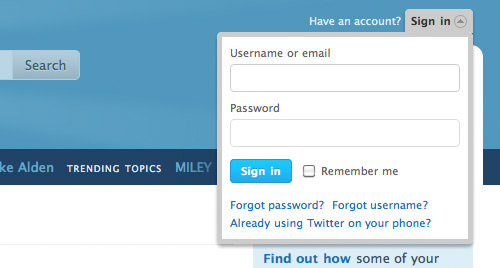_form_: (211, 28, 477, 198)
button: (229, 158, 293, 184)
checkbox: (303, 164, 317, 178)
checkbox_with_label: (301, 162, 398, 179)
field: (229, 117, 461, 148), (230, 62, 461, 93)
field_with_label: (227, 103, 463, 149), (228, 47, 463, 93)
